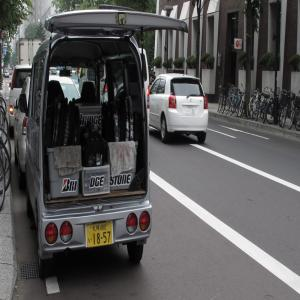Vehicle-registration-plate: (88, 223, 114, 248)
